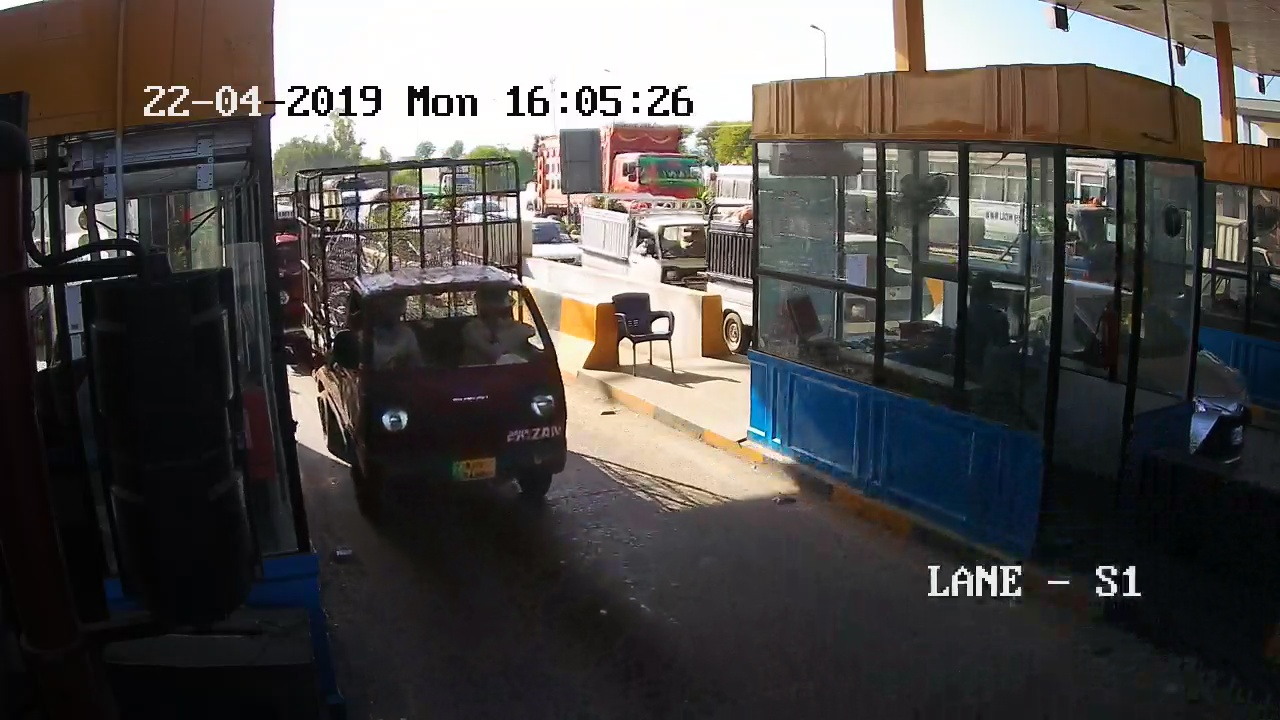Number Plate (Car): (453, 460, 497, 479)
